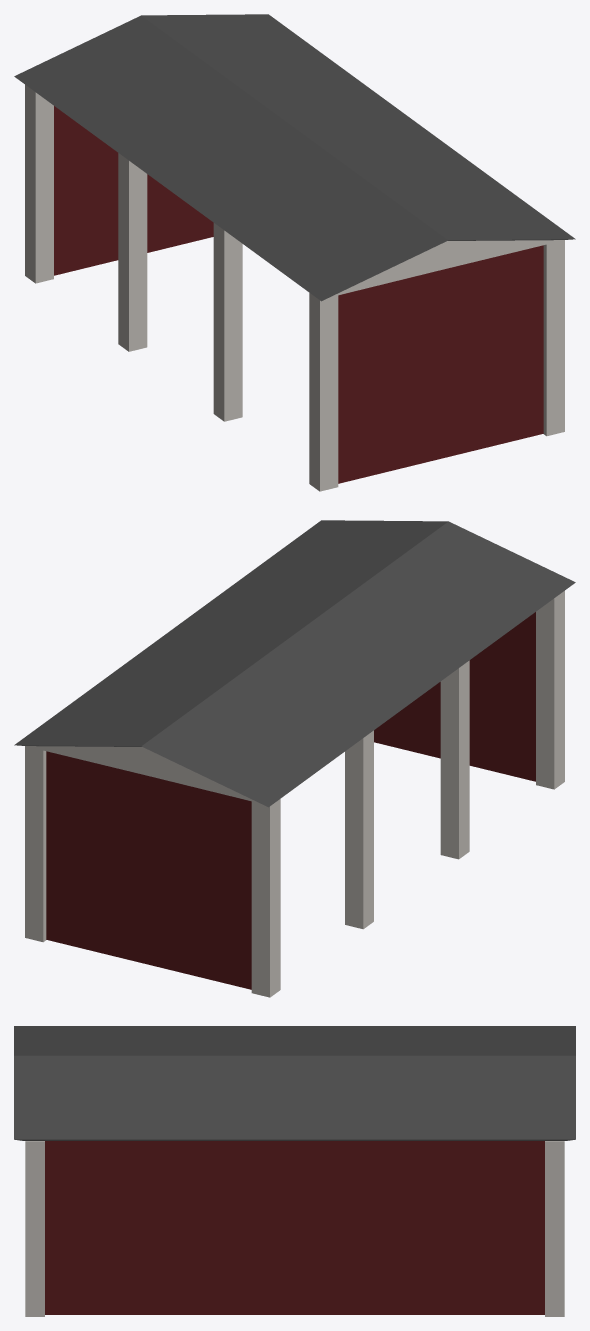
The model's file is Parking.fbx.
3 views of the same model, one above another, from view 1: azimuth 30°, elevation 25°; view 2: azimuth 150°, elevation 25°; view 3: azimuth 270°, elevation 25° (orthographic). The views are drawn at different scales.
Parts seen in each view (by area): view 1: Cube; view 2: Cube; view 3: Cube.
Boxes of the visible parts, left/top/right/bottom form: Cube: left=14, top=14, right=575, bottom=491; Cube: left=14, top=520, right=575, bottom=997; Cube: left=14, top=1026, right=575, bottom=1316.
Bounding box in the file's own units: 2188 × 1855 × 4574.
